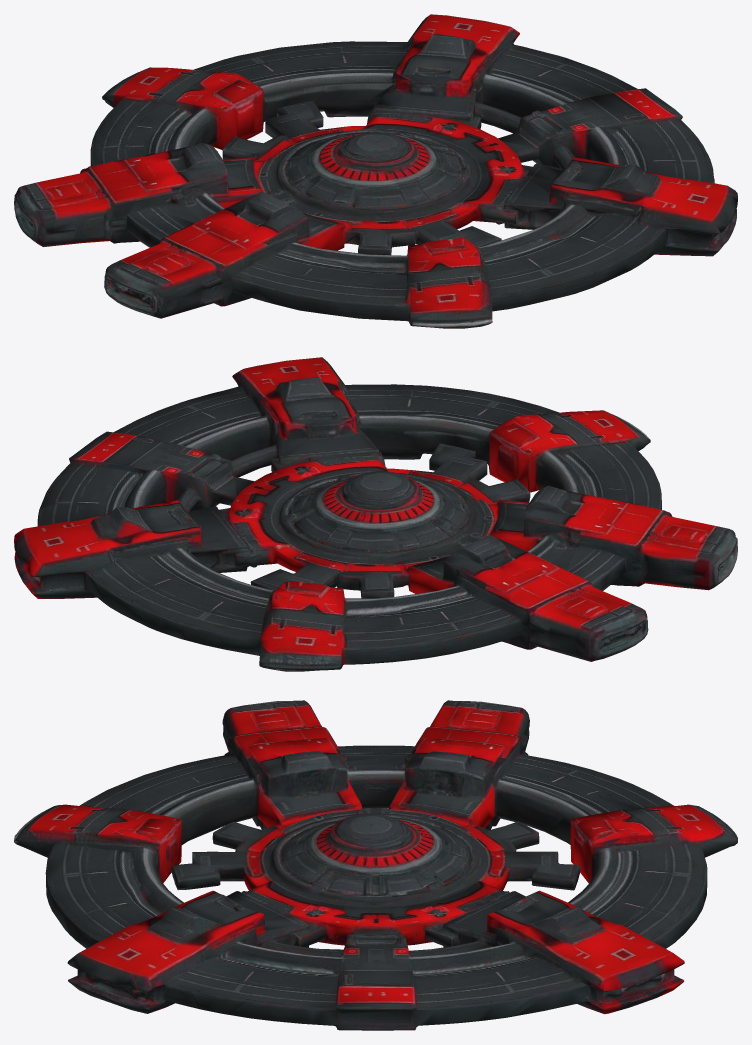
The model's file is station_hostile.repacked.glb.
3 views of the same model, one above another, from view 1: azimuth 30°, elevation 25°; view 2: azimuth 150°, elevation 25°; view 3: azimuth 270°, elevation 25° (orthographic). The views are drawn at different scales.
Visible parts, largest first — view 1: Mesh1.0; view 2: Mesh1.0; view 3: Mesh1.0.
Part boxes in pixels (bbox=[...]): Mesh1.0: bbox=[14, 14, 737, 328]; Mesh1.0: bbox=[14, 357, 737, 671]; Mesh1.0: bbox=[14, 700, 737, 1030].
Bounding box in the file's own units: 1.91 × 0.2633 × 1.91.
Materials: 1 (1 with a texture image).
